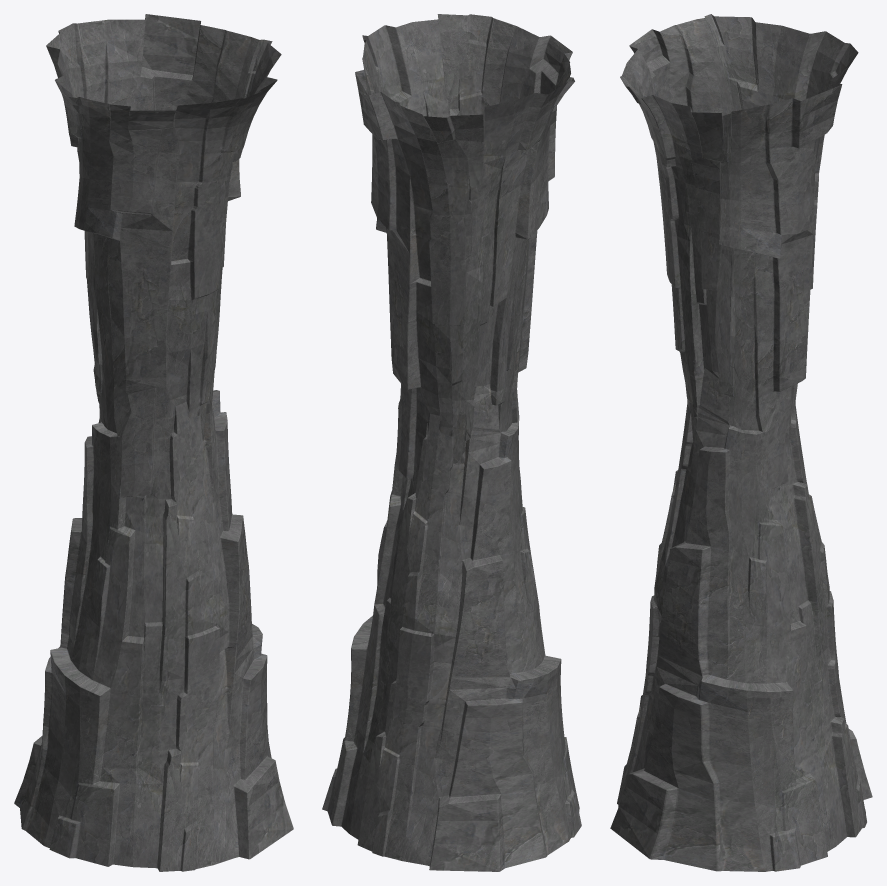
File: Pillar02.fbx
The picture shows the model from 3 angles, left to right: view 1: azimuth 30°, elevation 25°; view 2: azimuth 150°, elevation 25°; view 3: azimuth 270°, elevation 25°; orthographic projection.
Parts seen in each view (by area): view 1: SM_ENV_NATURE_Cave_Pillar_L_02.mo; view 2: SM_ENV_NATURE_Cave_Pillar_L_02.mo; view 3: SM_ENV_NATURE_Cave_Pillar_L_02.mo.
Part boxes in pixels (<box>): SM_ENV_NATURE_Cave_Pillar_L_02.mo: <box>14,14,293,871</box>; SM_ENV_NATURE_Cave_Pillar_L_02.mo: <box>322,14,581,871</box>; SM_ENV_NATURE_Cave_Pillar_L_02.mo: <box>610,14,872,871</box>.
Bounding box in the file's own units: 627 × 1993 × 629.
Materials: 1 (1 with a texture image).
